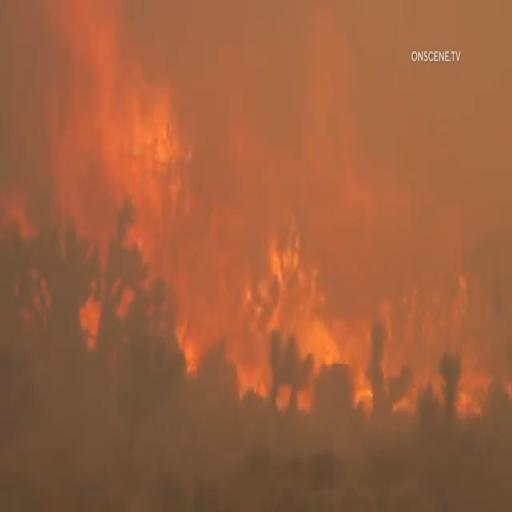fire: (230, 195, 343, 402), (125, 61, 203, 237)
